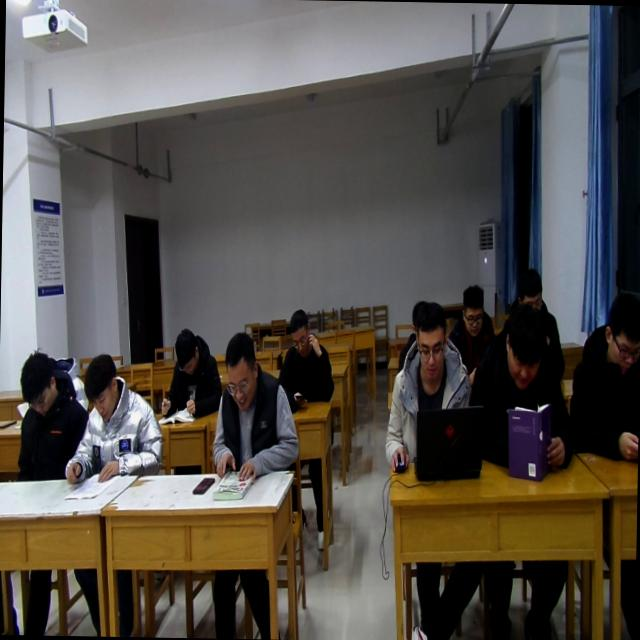down: (501, 302, 547, 394), (218, 328, 265, 412), (409, 296, 452, 382), (601, 286, 640, 372), (17, 349, 62, 417), (80, 350, 122, 422), (456, 278, 486, 339), (170, 324, 202, 378), (286, 304, 316, 360), (512, 263, 546, 312)
sit: (470, 301, 576, 478), (384, 298, 476, 476), (64, 346, 165, 490), (210, 329, 300, 482), (569, 288, 640, 461), (12, 348, 91, 486), (503, 263, 567, 377), (158, 324, 224, 420), (276, 306, 336, 408), (446, 282, 498, 391)
